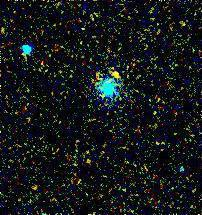star: (101, 60, 131, 90)
